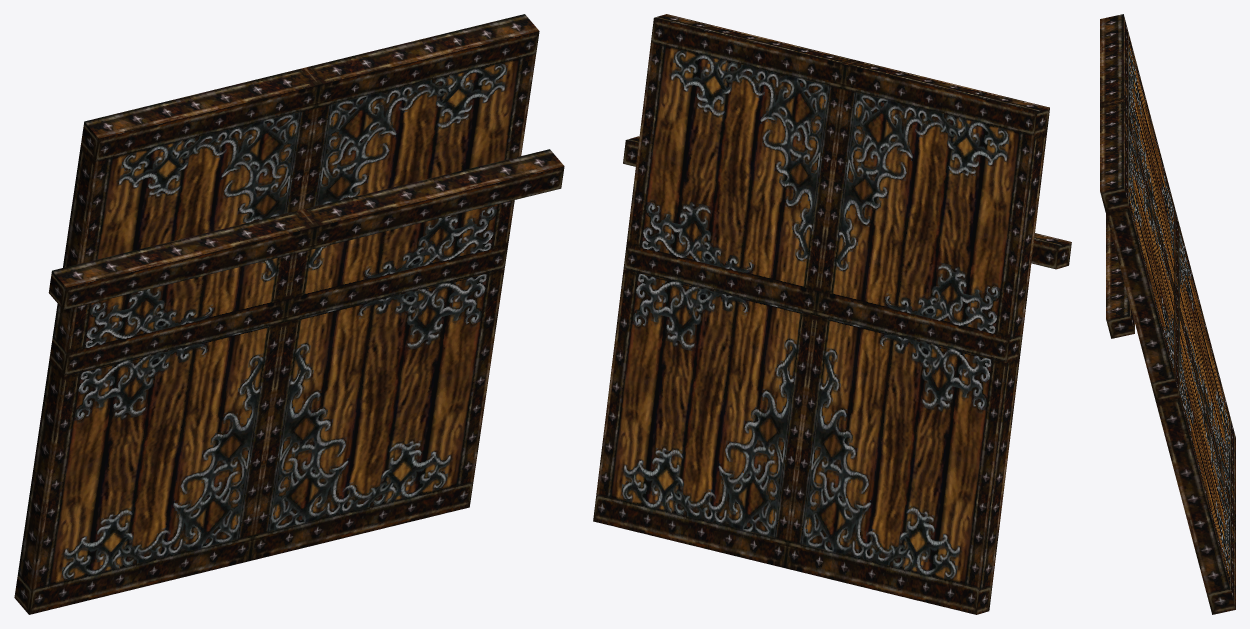
File: ANIMATEDINSTANCES_D_BRIDGE_02__AI.fbx
The picture shows the model from 3 angles, left to right: view 1: azimuth 30°, elevation 25°; view 2: azimuth 150°, elevation 25°; view 3: azimuth 270°, elevation 25°; orthographic projection. The views are drawn at different scales.
Visible parts, largest first — view 1: ANIMATEDINSTANCES_D_BRIDGE_02__AI; view 2: ANIMATEDINSTANCES_D_BRIDGE_02__AI; view 3: ANIMATEDINSTANCES_D_BRIDGE_02__AI.
Boxes of the visible parts, x1=… form: ANIMATEDINSTANCES_D_BRIDGE_02__AI: x1=14, y1=14, x2=564, y2=614; ANIMATEDINSTANCES_D_BRIDGE_02__AI: x1=593, y1=14, x2=1071, y2=614; ANIMATEDINSTANCES_D_BRIDGE_02__AI: x1=1100, y1=14, x2=1235, y2=614.
Size of the model in its own units: 39188 by 40153 by 11525.
1 material, 1 textured.
